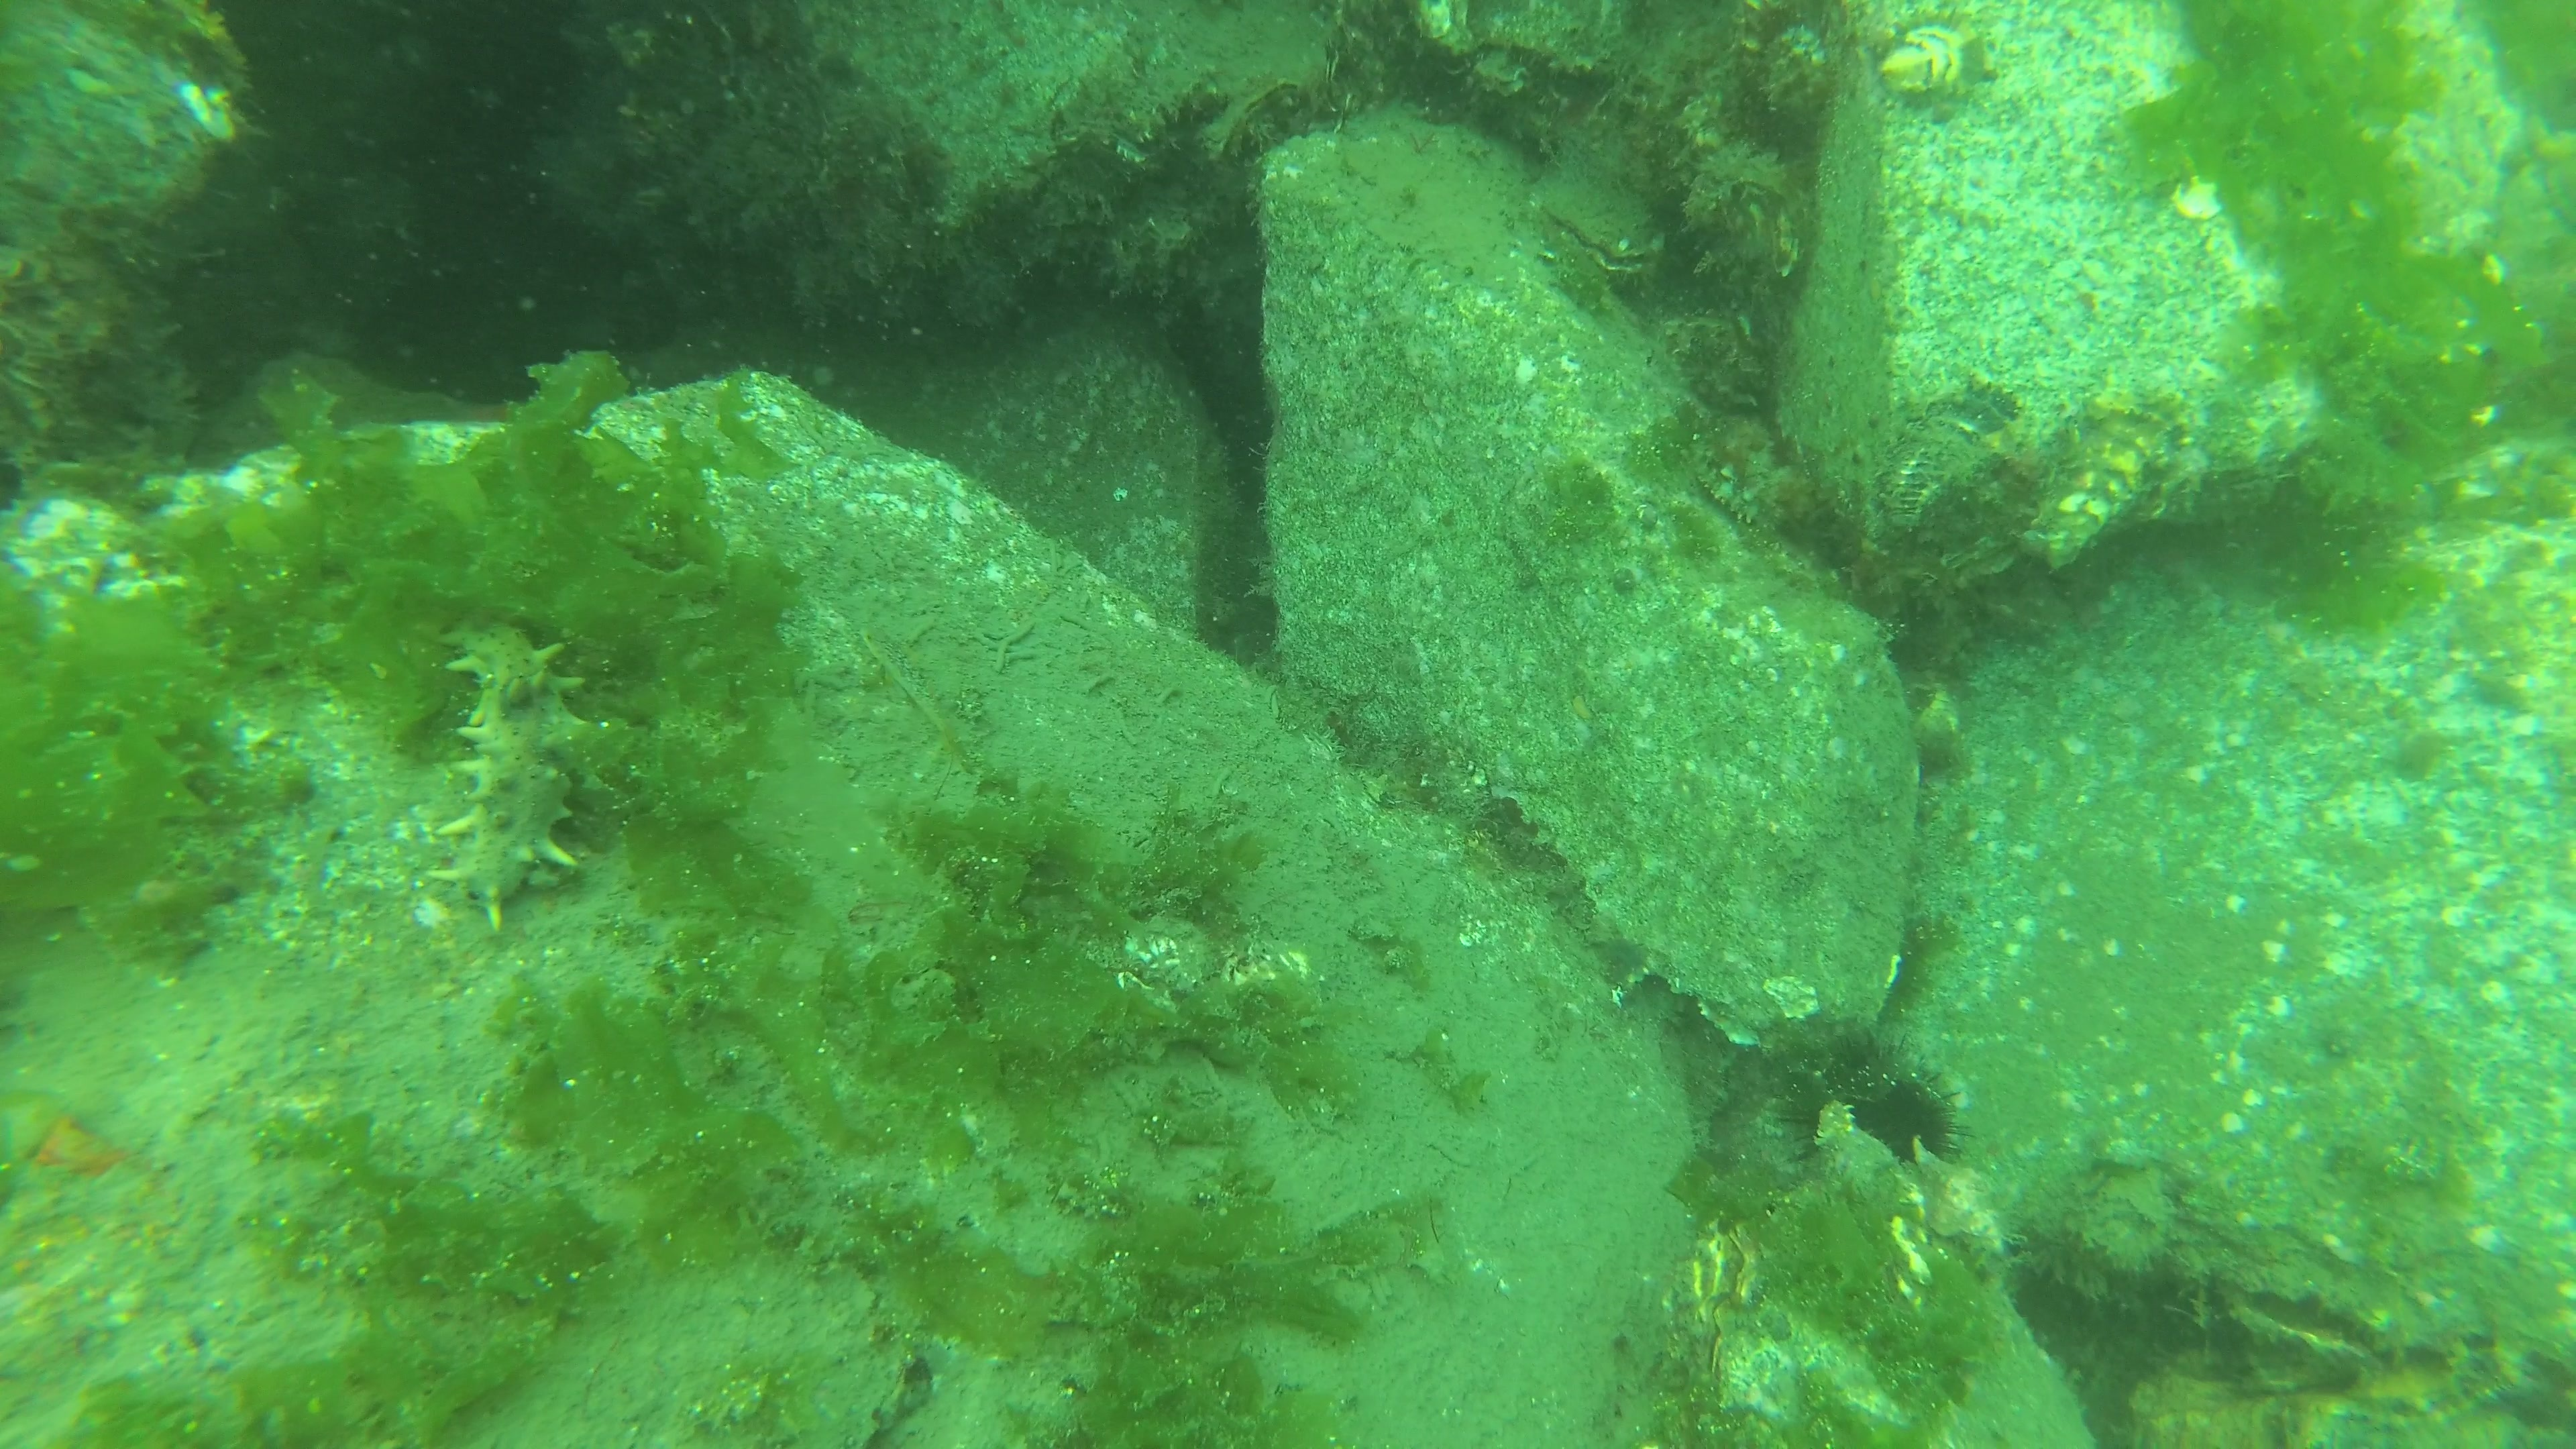echinus: (1764, 1037, 1971, 1162)
holothurian: (433, 614, 593, 936)
